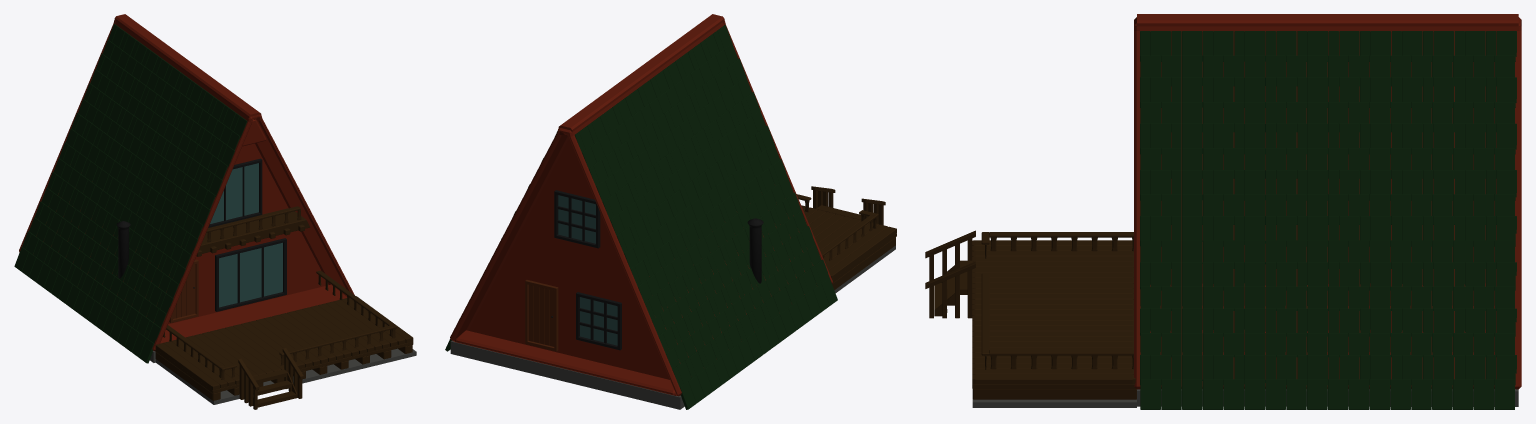
File: house.obj
3 views of the same model, side by side, from view 1: azimuth 30°, elevation 25°; view 2: azimuth 150°, elevation 25°; view 3: azimuth 270°, elevation 25° (orthographic). The views are drawn at different scales.
Parts seen in each view (by area): view 1: cabin_shingle_0, cabin_deck-base_0, cabin_wood-dark_0, cabin_window-pane_0, cabin_metal_0, cabin_cement_0, cabin_door_0; view 2: cabin_shingle_0, cabin_wood-dark_0, cabin_deck-base_0, cabin_cement_0, cabin_metal_0, cabin_window-pane_0, cabin_door_0; view 3: cabin_shingle_0, cabin_deck-base_0, cabin_wood-dark_0, cabin_cement_0.
Boxes of the visible parts, x1,y1,x2,y2 form: cabin_shingle_0: [14, 24, 247, 363]; cabin_deck-base_0: [155, 206, 413, 409]; cabin_wood-dark_0: [19, 14, 354, 350]; cabin_window-pane_0: [210, 163, 282, 307]; cabin_metal_0: [116, 158, 286, 311]; cabin_cement_0: [150, 348, 416, 404]; cabin_door_0: [169, 259, 198, 322]; cabin_shingle_0: [445, 25, 837, 409]; cabin_wood-dark_0: [450, 14, 832, 396]; cabin_deck-base_0: [796, 186, 896, 289]; cabin_cement_0: [450, 245, 895, 409]; cabin_metal_0: [551, 190, 763, 350]; cabin_window-pane_0: [558, 195, 617, 345]; cabin_door_0: [525, 280, 558, 351]; cabin_shingle_0: [1140, 31, 1516, 409]; cabin_deck-base_0: [925, 230, 1136, 399]; cabin_wood-dark_0: [1134, 14, 1521, 389]; cabin_cement_0: [972, 389, 1518, 407].
Size of the model in its own units: 69.96 by 70 by 118.
